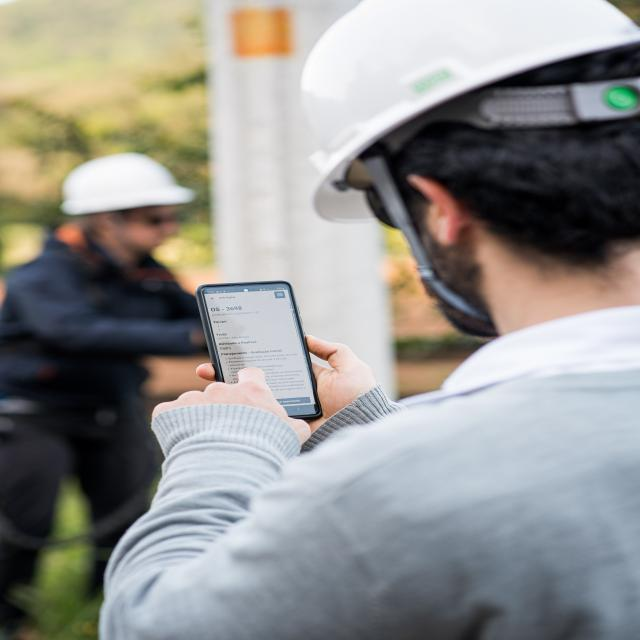capacete: (294, 1, 640, 223), (56, 150, 199, 218)
